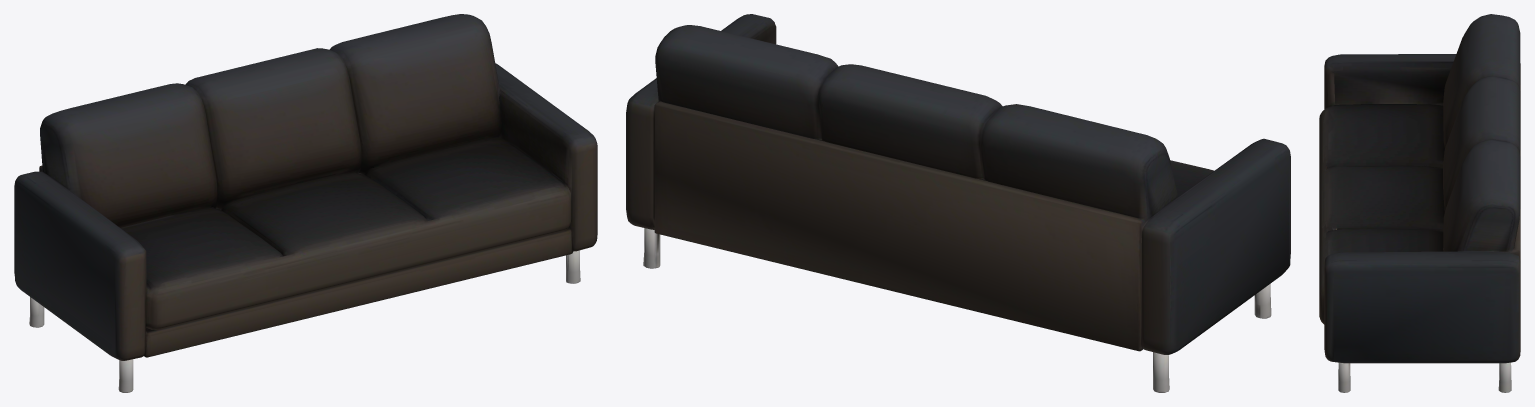
The model's file is Couch_2.glb.
The picture shows the model from 3 angles, left to right: view 1: azimuth 30°, elevation 25°; view 2: azimuth 150°, elevation 25°; view 3: azimuth 270°, elevation 25°; orthographic projection. The views are drawn at different scales.
Visible parts, largest first — view 1: material; view 2: material; view 3: material.
Boxes of the visible parts, <box> form: material: <box>14,14,597,392</box>; material: <box>626,14,1290,392</box>; material: <box>1319,14,1520,392</box>.
Size of the model in its own units: 1.9 by 0.788 by 0.7654.
Materials: 1 (1 with a texture image).
